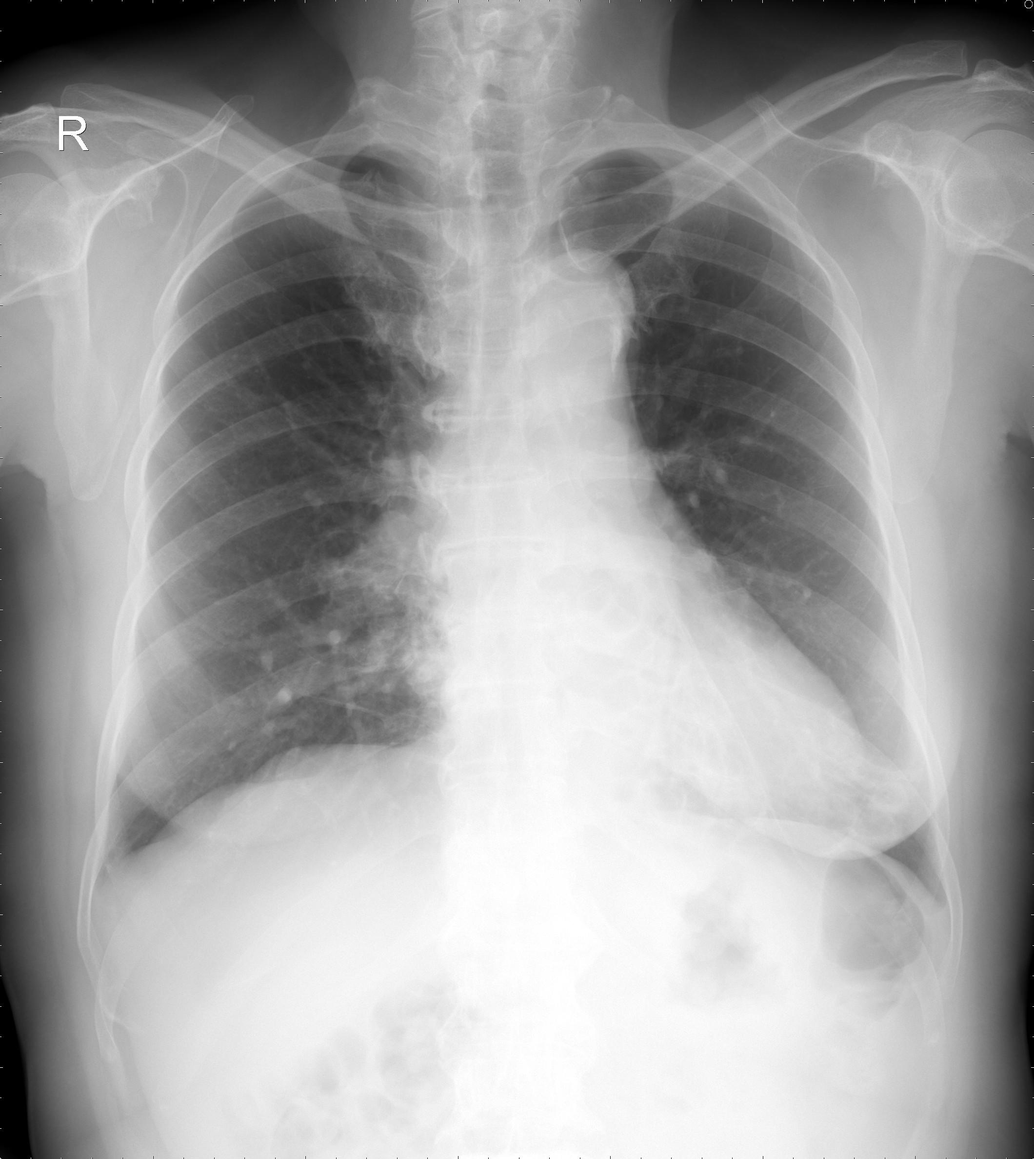Aortic enlargement: (502, 249, 633, 372)
Cardiomegaly: (402, 618, 868, 817)
Pleural thickening: (85, 817, 150, 905)
